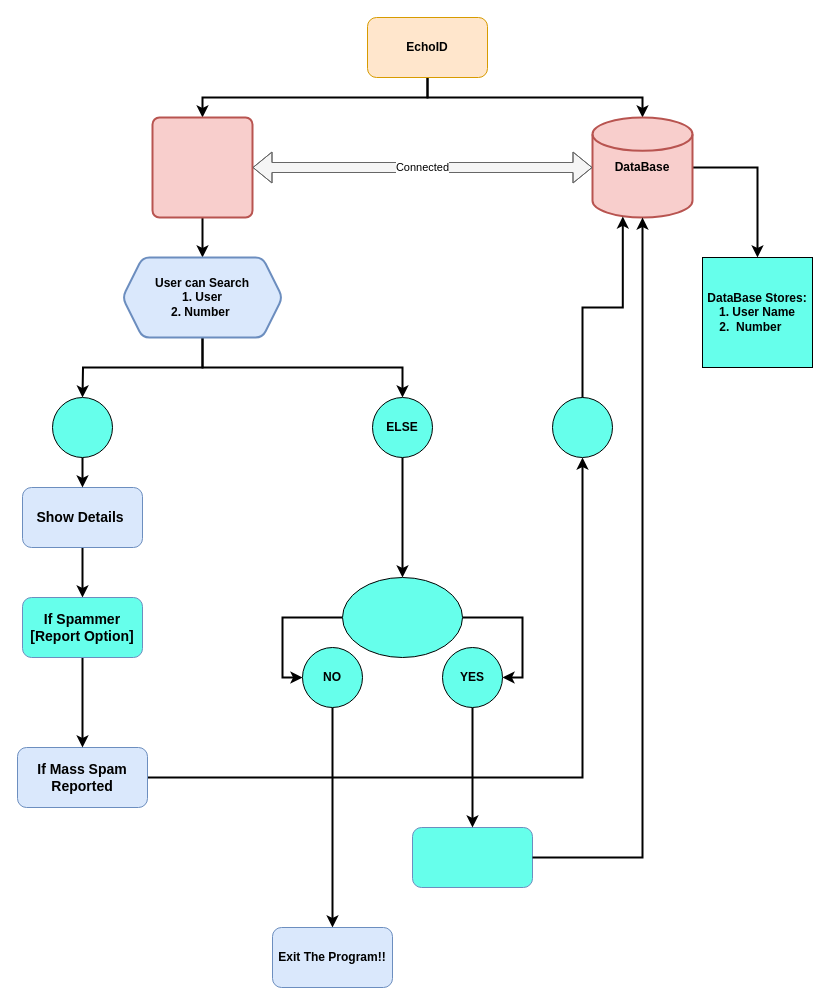
Image size: 830x1005. Some labels were removed from this diagram. Each missing label, with the box of its shape:
Delete: (552, 396, 612, 458)
IFThere: (52, 396, 112, 458)
Python: (151, 116, 253, 218)
Stores a new one in DataBase: (412, 826, 532, 888)
Want to Store ?: (342, 576, 462, 658)
